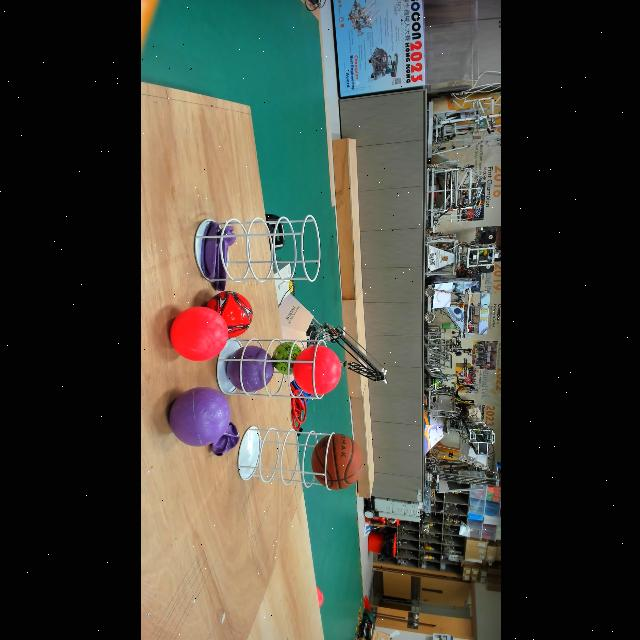P: (164, 386, 232, 448), (223, 344, 273, 394)
R: (166, 305, 228, 363), (290, 344, 342, 398)
S: (192, 214, 320, 284), (214, 338, 328, 400), (236, 425, 336, 491)
